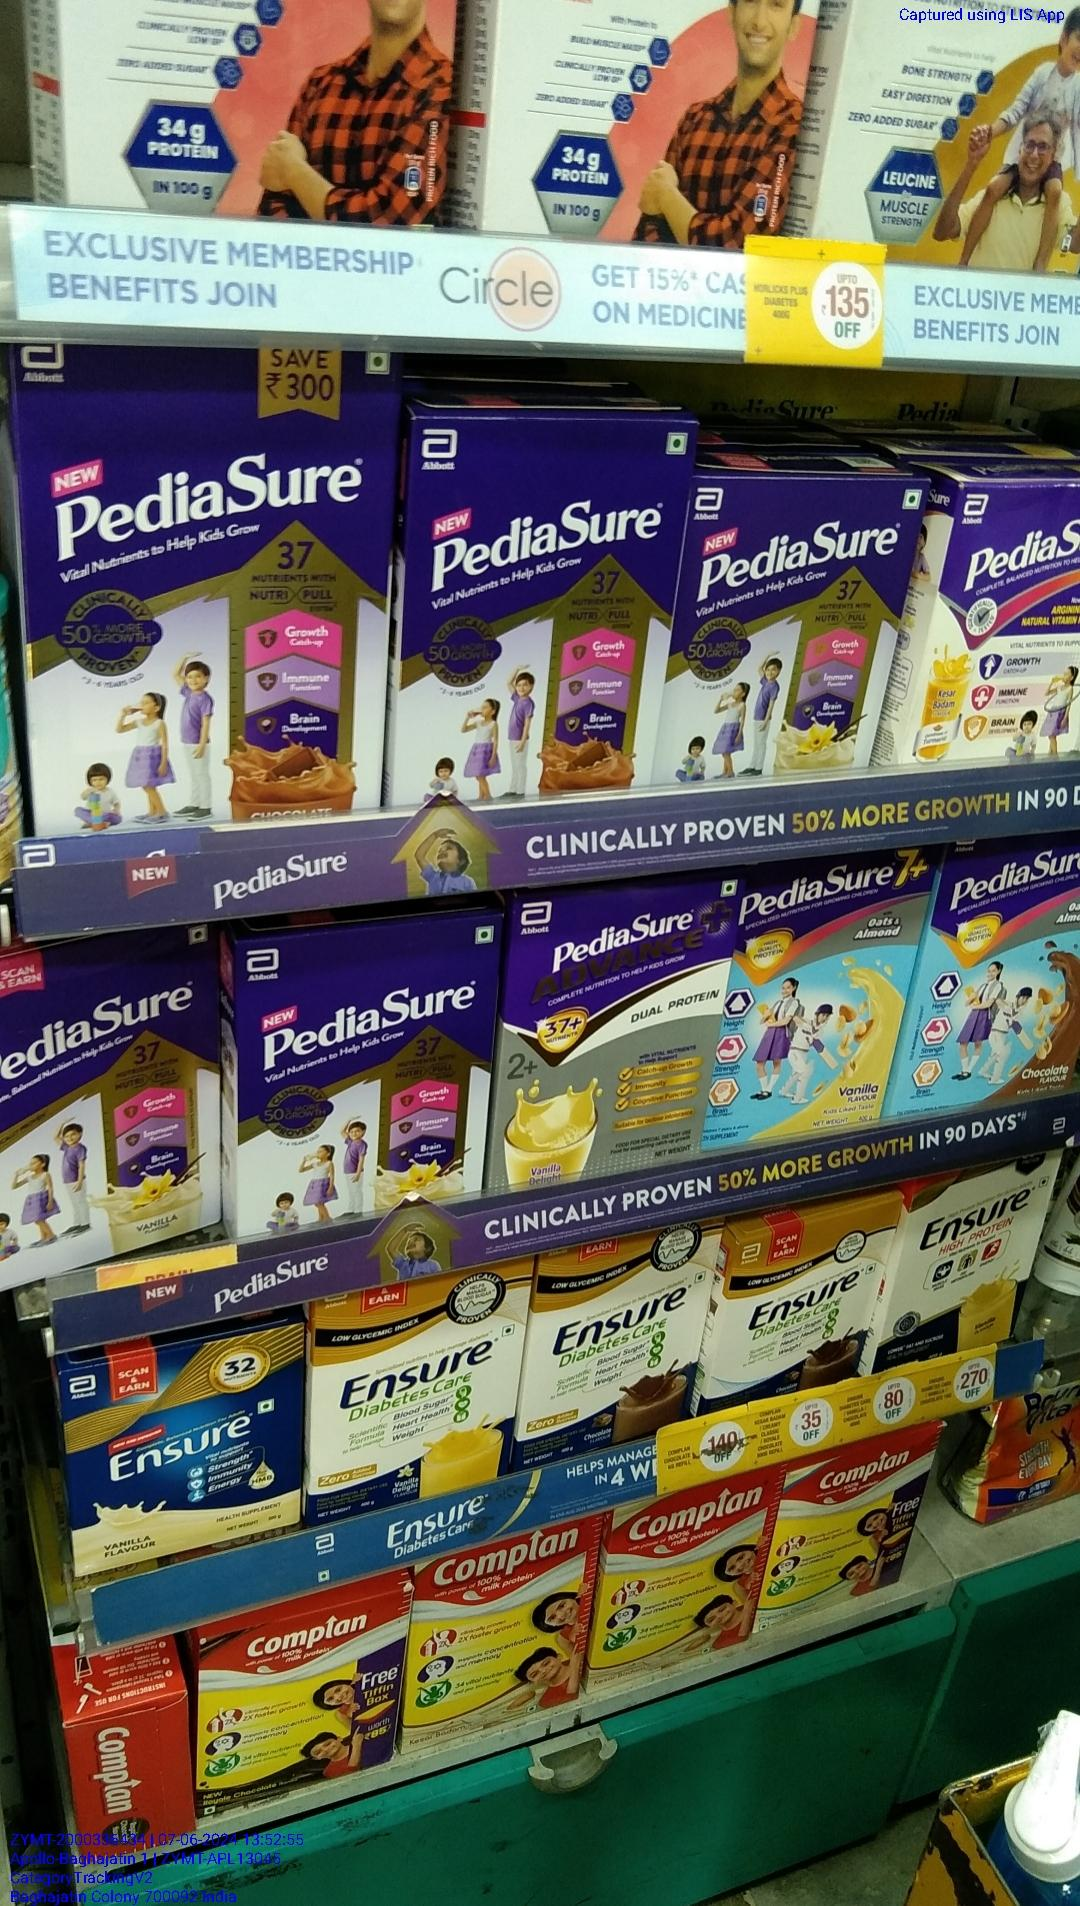PEDIASURE_7_PLUS_CHOCOLATE_400_G_PACK: (941, 856, 1080, 1109)
PEDIASURE_CHOCOLATE_500_G_PACK: (24, 386, 394, 829), (395, 416, 668, 784)
PEDIASURE_VANILLA_500_G_PACK: (0, 919, 220, 1275), (233, 933, 490, 1210)
